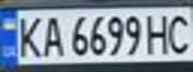6: (66, 12, 90, 56), (87, 12, 109, 56)
9: (121, 11, 148, 56), (106, 12, 127, 56)
A: (39, 12, 66, 59)
C: (163, 10, 193, 55)
H: (142, 10, 175, 55)
K: (12, 12, 45, 59)
